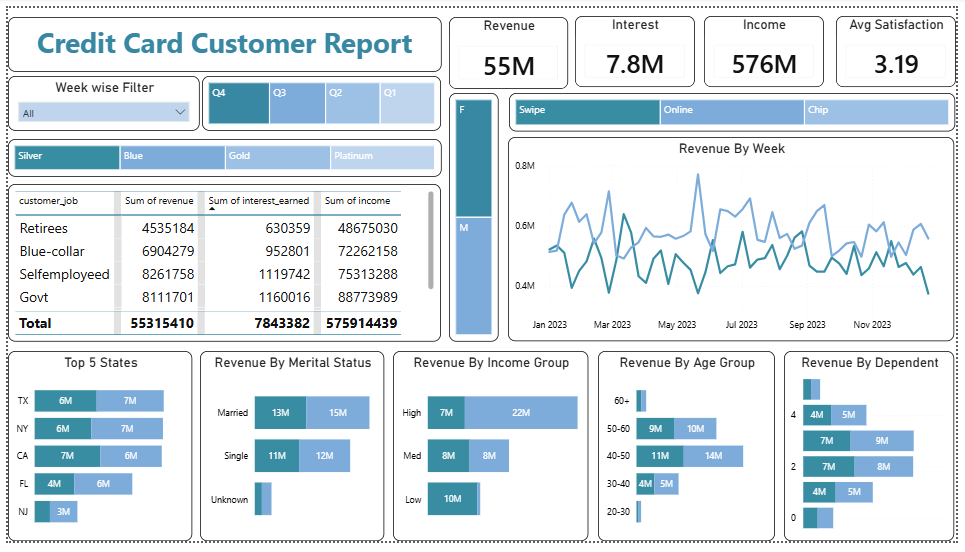

The page's visual inventory and layout, read from the dashboard file:
{"tool":"powerbi","page":{"name":"CC_Customers","canvas":[1280,720],"ordinal":2},"visuals":[{"type":"textbox","box":[0,11.6,585.5,73.9],"z":0},{"type":"tableEx","fields":{"Values":["public cc_customers.customer_job","Sum(public cc_details.revenue)","Sum(public cc_details.interest_earned)","Sum(public cc_customers.income)"]},"box":[0,237.3,585.1,213.4],"z":1000},{"type":"cardVisual","title":"Revenue","fields":{"Data":["Sum(public cc_details.revenue)"]},"box":[595.7,11.6,160.9,97.1],"z":2000},{"type":"cardVisual","title":"Interest","fields":{"Data":["Sum(public cc_details.interest_earned)"]},"box":[766.8,11.3,161.6,96.4],"z":3000},{"type":"cardVisual","title":"Income","fields":{"Data":["Sum(public cc_customers.income)"]},"box":[941.1,11.3,161.6,96.4],"z":4000},{"type":"cardVisual","title":"Avg Satisfaction","fields":{"Data":["Avg(public cc_customers.cust_satisfaction_score)"]},"box":[1118.3,11.3,161.6,96.4],"z":5000},{"type":"slicer","title":"Week wise Filter","fields":{"Values":["public cc_details.week_start_date"]},"box":[0,91.3,259.4,73.9],"z":6000},{"type":"treemap","fields":{"Group":["public cc_details.qtr"],"Values":["Avg(public cc_details.client_num)"]},"box":[262.3,91.3,323.2,73.9],"z":7000},{"type":"treemap","fields":{"Values":["Avg(public cc_details.client_num)"],"Group":["public cc_customers.gender"]},"box":[595.5,114.9,67.2,335.8],"z":8000},{"type":"treemap","fields":{"Values":["Avg(public cc_details.client_num)"],"Group":["public cc_details.card_category"]},"box":[0,176.8,585.5,50.7],"z":9000},{"type":"treemap","fields":{"Values":["Avg(public cc_details.client_num)"],"Group":["public cc_details.use_chip"]},"box":[677.6,114.9,603,52.2],"z":10000},{"type":"barChart","title":"Revenue By Income Group","fields":{"Y":["Sum(public cc_details.revenue)"],"Category":["public cc_customers.income_group"],"Series":["public cc_customers.gender"]},"box":[520.3,463.8,263.8,256.5],"z":11000},{"type":"lineChart","title":"Revenue By Week","fields":{"Y":["Sum(public cc_details.revenue)"],"Series":["public cc_customers.gender"],"Category":["public cc_details.week_start_date.Variation.Date Hierarchy.Year","public cc_details.week_start_date.Variation.Date Hierarchy.Month","public cc_details.week_start_date.Variation.Date Hierarchy.Day"]},"box":[676.1,174.6,603,276.1],"z":12000},{"type":"barChart","title":"Revenue By Age Group","fields":{"Y":["Sum(public cc_details.revenue)"],"Category":["public cc_customers.age_group"],"Series":["public cc_customers.gender"]},"box":[797.1,463.8,239.1,256.5],"z":13000},{"type":"barChart","title":"Top 5 States ","fields":{"Y":["Sum(public cc_details.revenue)"],"Category":["public cc_customers.state_cd"],"Series":["public cc_customers.gender"]},"box":[0,463.8,249.3,256.5],"z":14000},{"type":"barChart","title":"Revenue By Dependent","fields":{"Y":["Sum(public cc_details.revenue)"],"Category":["public cc_customers.dependent_count"],"Series":["public cc_customers.gender"]},"box":[1049.3,463.8,230.4,256.5],"z":15000},{"type":"barChart","title":"Revenue By Merital Status ","fields":{"Y":["Sum(public cc_details.revenue)"],"Category":["public cc_customers.marital_status"],"Series":["public cc_customers.gender"]},"box":[259.4,463.8,249.3,256.5],"z":16000}]}

Visuals, with their boxes in screenshot pixels (x1, y1, x2, y2), scaled from the page's 1280x720 canvas onto the 965x552 screenshot:
textbox: [left=0, top=9, right=441, bottom=66]
tableEx - public cc_customers.customer_job x Sum(public cc_details.revenue): [left=0, top=182, right=441, bottom=346]
"Revenue" cardVisual: [left=449, top=9, right=570, bottom=83]
"Interest" cardVisual: [left=578, top=9, right=700, bottom=83]
"Income" cardVisual: [left=710, top=9, right=831, bottom=83]
"Avg Satisfaction" cardVisual: [left=843, top=9, right=964, bottom=83]
"Week wise Filter" slicer: [left=0, top=70, right=196, bottom=127]
treemap - public cc_details.qtr x Avg(public cc_details.client_num): [left=198, top=70, right=441, bottom=127]
treemap - Avg(public cc_details.client_num) x public cc_customers.gender: [left=449, top=88, right=500, bottom=346]
treemap - Avg(public cc_details.client_num) x public cc_details.card_category: [left=0, top=136, right=441, bottom=174]
treemap - Avg(public cc_details.client_num) x public cc_details.use_chip: [left=511, top=88, right=964, bottom=128]
"Revenue By Income Group" barChart: [left=392, top=356, right=591, bottom=551]
"Revenue By Week" lineChart: [left=510, top=134, right=964, bottom=346]
"Revenue By Age Group" barChart: [left=601, top=356, right=781, bottom=551]
"Top 5 States " barChart: [left=0, top=356, right=188, bottom=551]
"Revenue By Dependent" barChart: [left=791, top=356, right=964, bottom=551]
"Revenue By Merital Status " barChart: [left=196, top=356, right=384, bottom=551]
